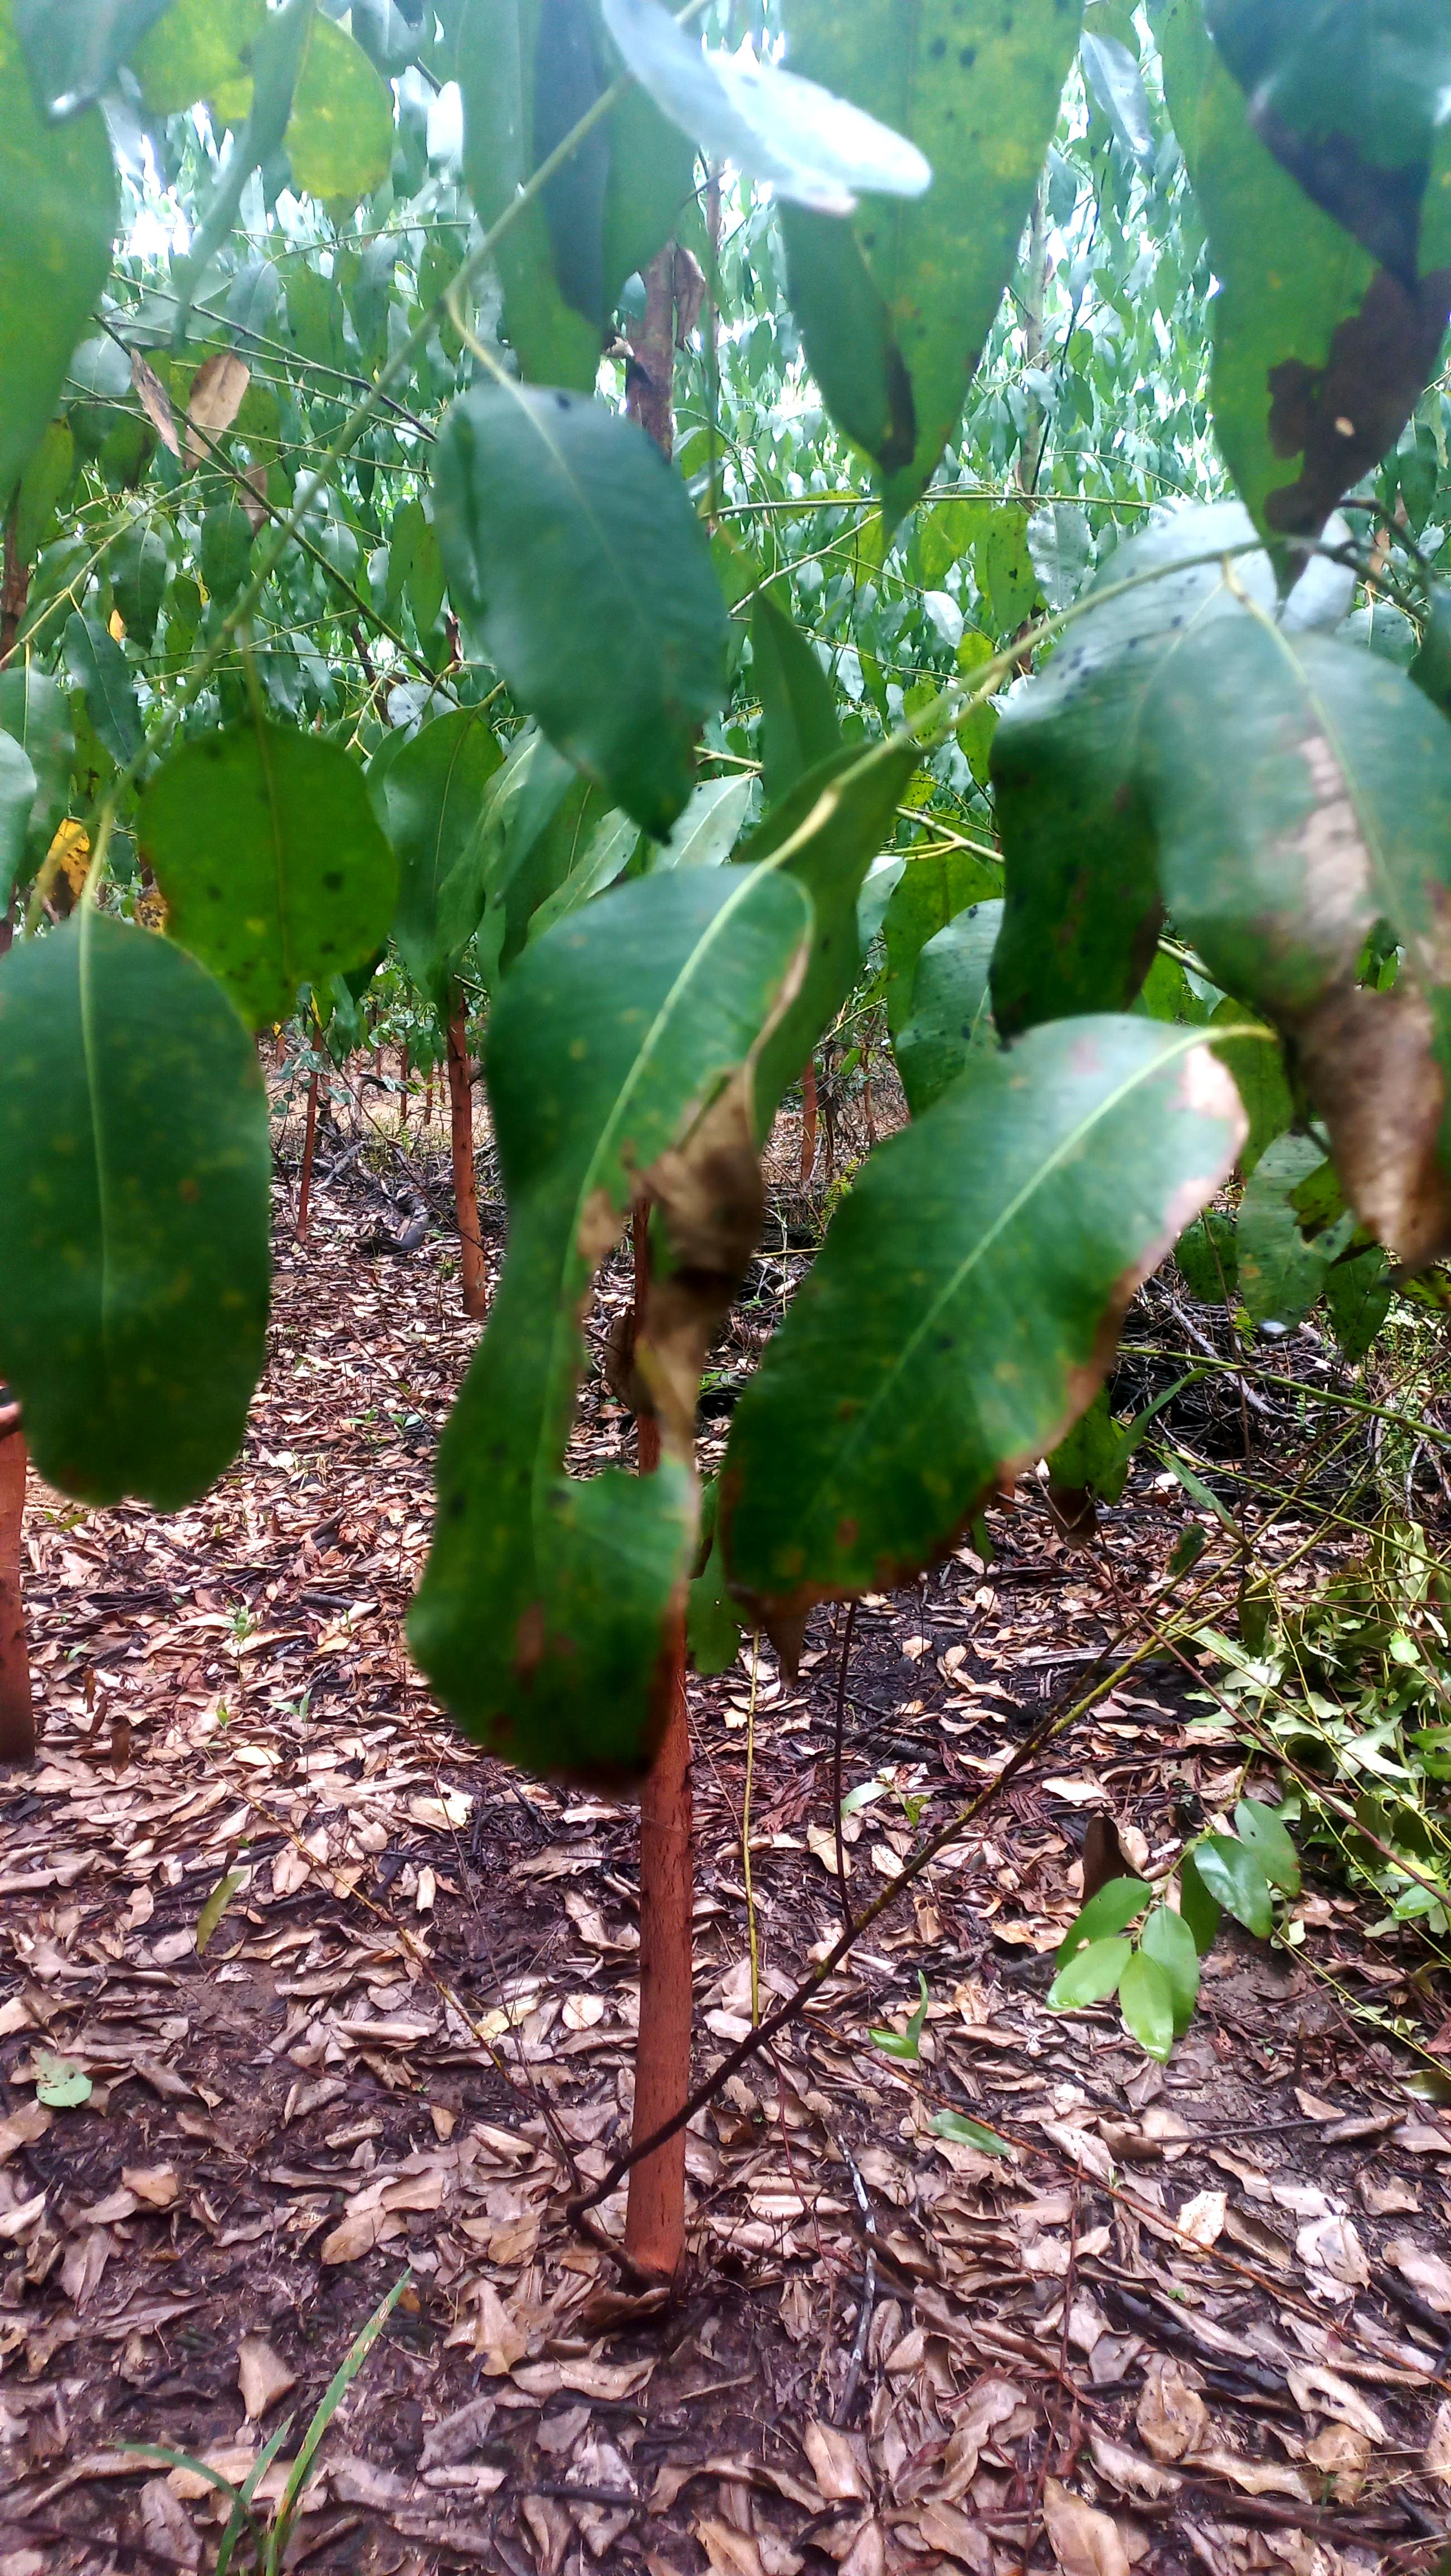Cylindrocladium: (1278, 725, 1451, 1284), (1272, 269, 1433, 609), (633, 1074, 752, 1509), (1178, 1044, 1251, 1136), (41, 821, 96, 929)
